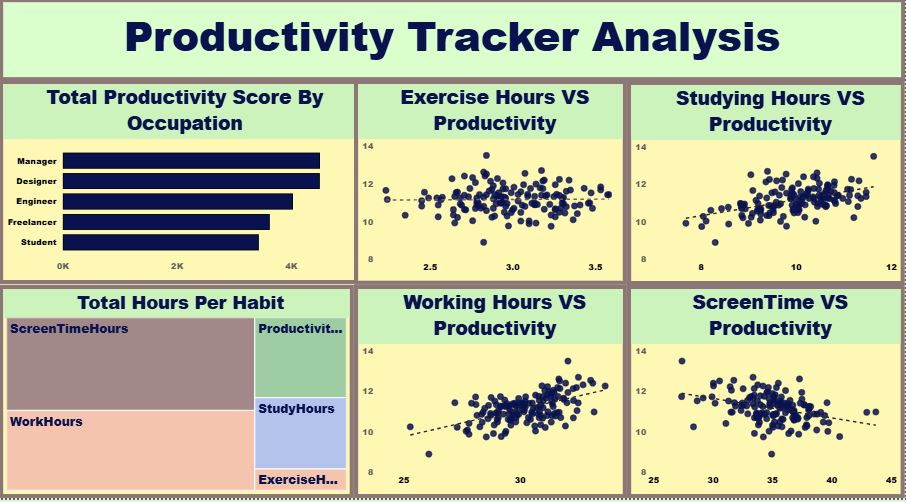

This screenshot's page, from the dashboard's own definition file:
{"tool":"powerbi","page":{"name":"Habit Impact Analysis","canvas":[1304,720],"ordinal":1},"visuals":[{"type":"textbox","box":[0,18.7,1288.8,99.4],"z":0},{"type":"textbox","box":[0,0,1304.6,119.5],"z":1000},{"type":"barChart","title":"Total Productivity Score By Occupation","fields":{"Y":["Sum(Productivity Table.ProductivityScore)"],"Category":["Productivity Table.Occupation"]},"box":[0,118.1,522.7,293.8],"z":2000},{"type":"treemap","title":"Total Hours Per Habit","fields":{"Group":["Habit_Table.Habit (groups)"],"Values":["Sum(Habit_Table.Hour)"]},"box":[0,413.3,511.2,306.7],"z":3000},{"type":"scatterChart","title":"Exercise Hours VS Productivity","fields":{"Category":["Productivity Table.UserID"],"X":["Measures .Average Excercising Hours"],"Y":["Measures .Average Productivity Score"]},"box":[511.2,118.1,393.1,295.2],"z":4000},{"type":"scatterChart","title":"Studying Hours VS Productivity","fields":{"Category":["Productivity Table.UserID"],"Y":["Measures .Average Productivity Score"],"X":["Measures .Average studying Hours"]},"box":[904.3,119.5,400.3,293.8],"z":5000},{"type":"scatterChart","title":"Working Hours VS Productivity","fields":{"Category":["Productivity Table.UserID"],"Y":["Measures .Average Productivity Score"],"X":["Measures .Average Work hours"]},"box":[511.2,413.3,393.1,306.7],"z":6000},{"type":"scatterChart","title":"ScreenTime VS Productivity","fields":{"Category":["Productivity Table.UserID"],"Y":["Measures .Average Productivity Score"],"X":["Measures .Average screentime hours"]},"box":[904.3,413.3,400.3,306.7],"z":7000}]}

Visuals, with their boxes in screenshot pixels (x1, y1, x2, y2), scaled from the page's 1304x720 canvas onto the 906x502 screenshot:
textbox: x1=0, y1=13, x2=895, y2=82
textbox: x1=0, y1=0, x2=905, y2=83
"Total Productivity Score By Occupation" barChart: x1=0, y1=82, x2=363, y2=287
"Total Hours Per Habit" treemap: x1=0, y1=288, x2=355, y2=501
"Exercise Hours VS Productivity" scatterChart: x1=355, y1=82, x2=628, y2=288
"Studying Hours VS Productivity" scatterChart: x1=628, y1=83, x2=905, y2=288
"Working Hours VS Productivity" scatterChart: x1=355, y1=288, x2=628, y2=501
"ScreenTime VS Productivity" scatterChart: x1=628, y1=288, x2=905, y2=501
